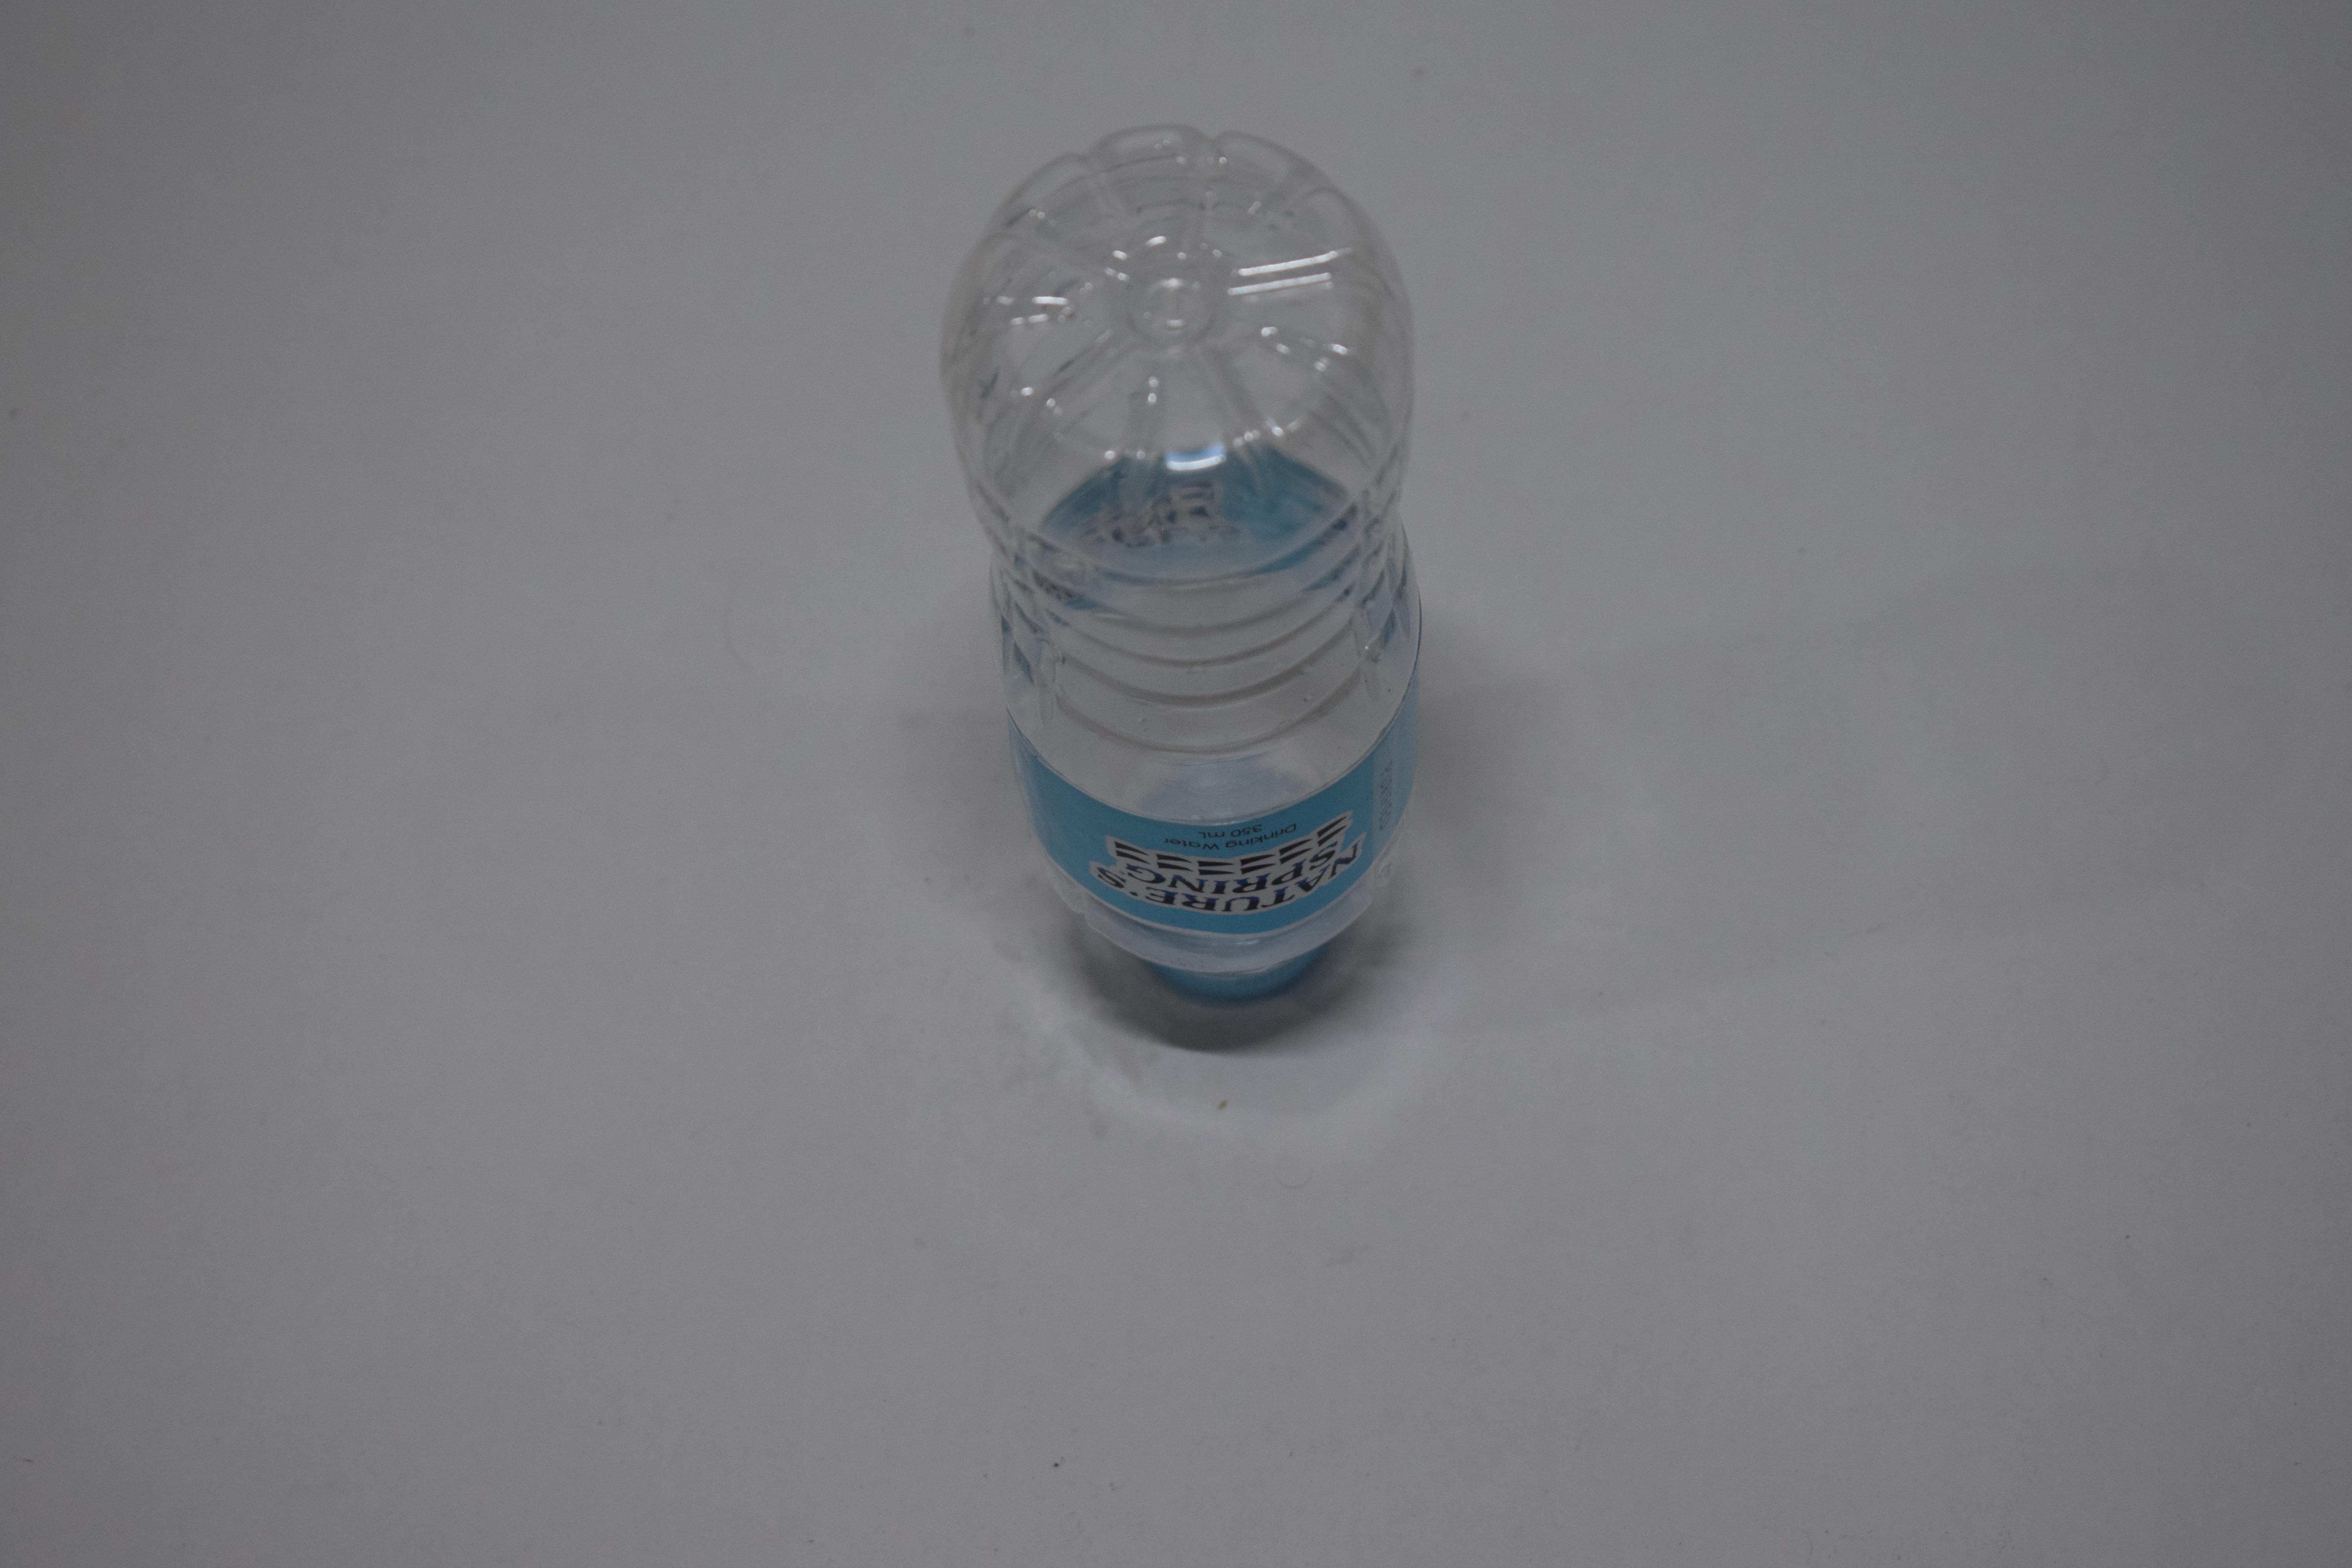bottle: (0, 420, 257, 532)
